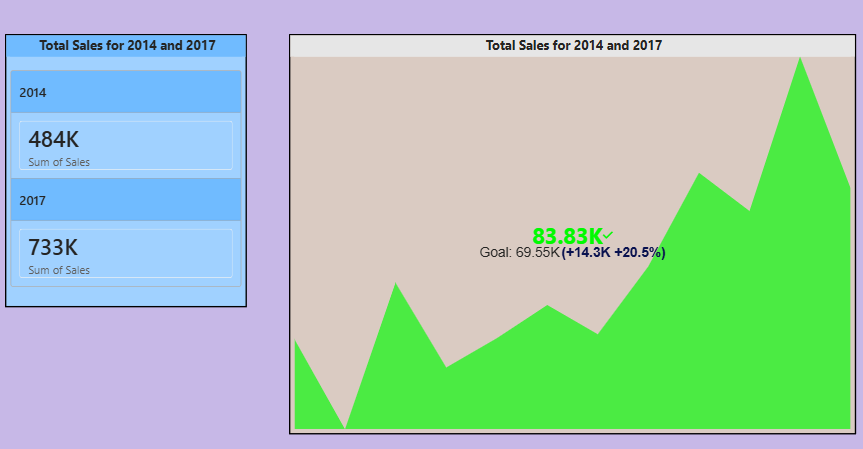

The dashboard page shown, as its layout file describes it:
{"tool":"powerbi","page":{"name":"KPI","canvas":[1280,720],"ordinal":3},"visuals":[{"type":"cardVisual","title":"Total Sales for 2014 and 2017","fields":{"Data":["Sum(Sample - Superstore.Sales)"],"Rows":["Sample - Superstore.Order Date.Variation.Date Hierarchy.Year"]},"box":[11.7,65.9,354.1,399.5],"z":0},{"type":"kpi","title":"Total Sales for 2014 and 2017","fields":{"Goal":["Sample - Superstore.TotalSales_2014"],"TrendLine":["Sample - Superstore.Month Id"],"Indicator":["Sample - Superstore.TotalSales_2017"]},"box":[426.7,65.5,829.8,586.2],"z":1000}]}

Visuals, with their boxes on the page's 1280x720 design canvas (x1, y1, x2, y2). These are canvas units, not pixel positions in the 863x449 screenshot, which may show the page scaled, cropped or inside an application window:
"Total Sales for 2014 and 2017" cardVisual: rect(12, 66, 366, 465)
"Total Sales for 2014 and 2017" kpi: rect(427, 66, 1256, 652)
